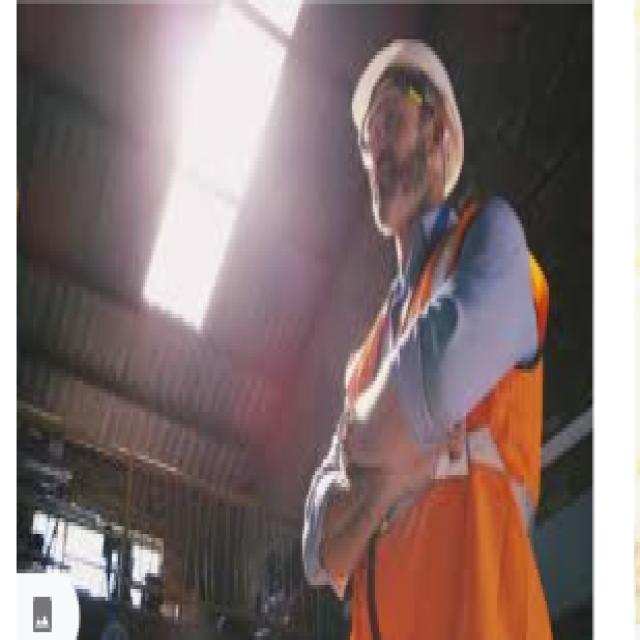glasses: (364, 99, 425, 156)
